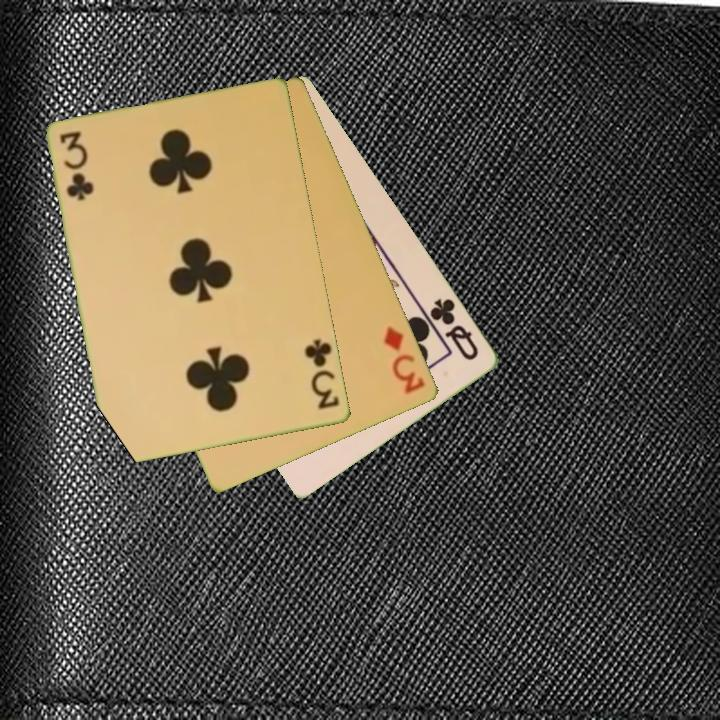3c: (302, 336, 343, 413), (56, 128, 95, 205)
3d: (380, 323, 429, 397)
Qc: (426, 294, 482, 364)
